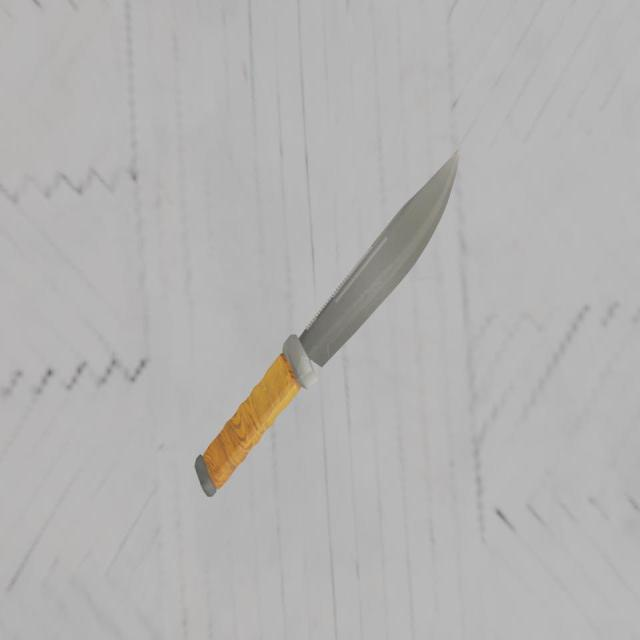knife: (194, 343, 310, 488)
